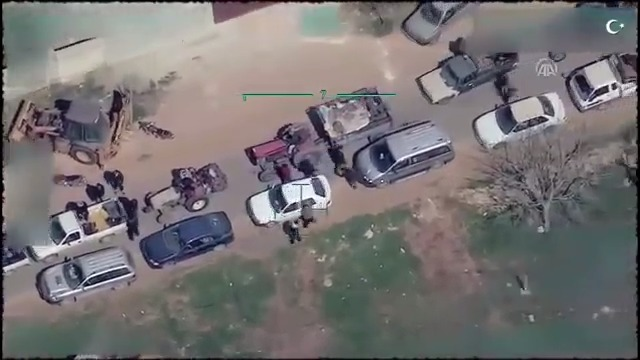arac: (243, 76, 389, 183), (6, 69, 152, 165), (23, 188, 134, 268), (352, 111, 458, 190), (418, 35, 525, 107), (33, 240, 137, 310), (137, 205, 238, 274), (136, 154, 232, 223), (471, 87, 570, 151), (241, 171, 337, 234), (565, 52, 640, 111), (397, 1, 476, 47), (46, 162, 95, 189), (138, 108, 179, 140)
insan: (278, 216, 305, 248), (107, 162, 129, 200), (298, 201, 317, 229)
